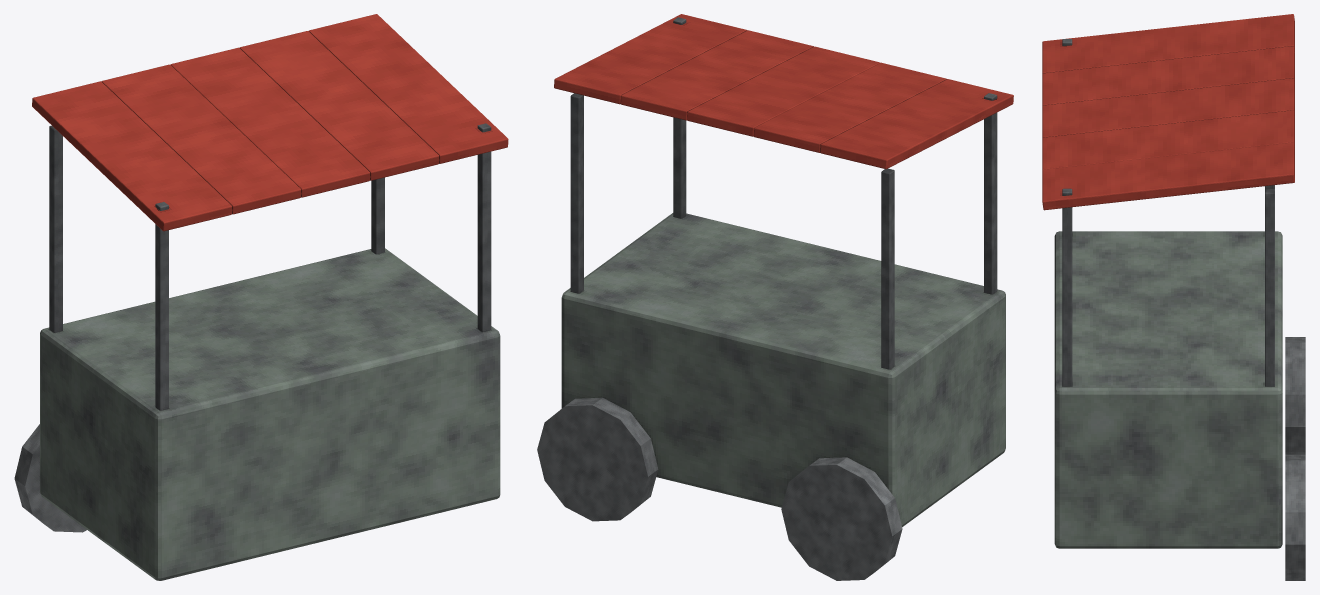
File: arena_city_cart.glb
3 renders of one model, left to right at view 1: azimuth 30°, elevation 25°; view 2: azimuth 150°, elevation 25°; view 3: azimuth 270°, elevation 25°, orthographic. The views are drawn at different scales.
Visible parts, largest first — view 1: arena_city_cart; view 2: arena_city_cart; view 3: arena_city_cart.
Part boxes in pixels (box(x1,y1,x2,y2)): arena_city_cart: box(14, 14, 508, 580); arena_city_cart: box(537, 14, 1013, 580); arena_city_cart: box(1042, 14, 1305, 580).
Bounding box in the file's own units: 1.6 × 1.84 × 1.04.
Materials: 3 (3 with a texture image).
